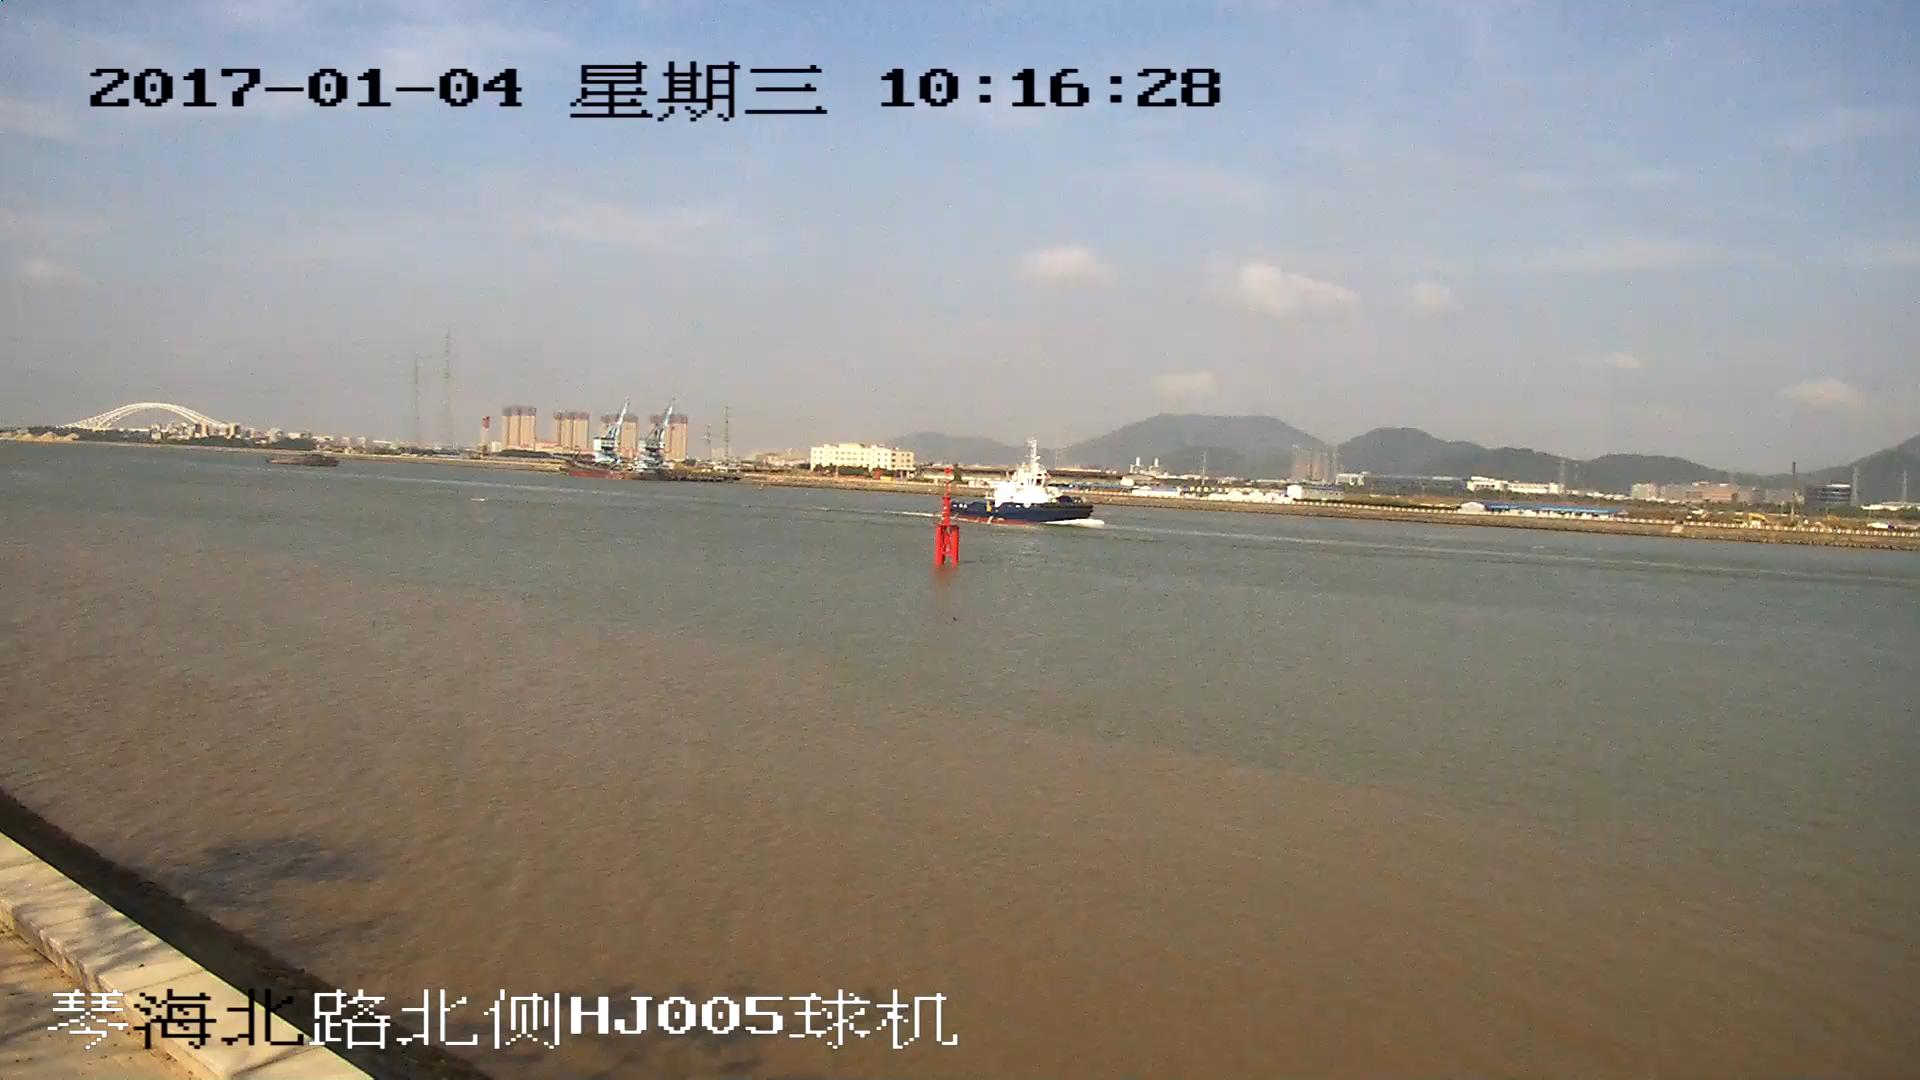passenger ship: (962, 438, 1089, 526)
